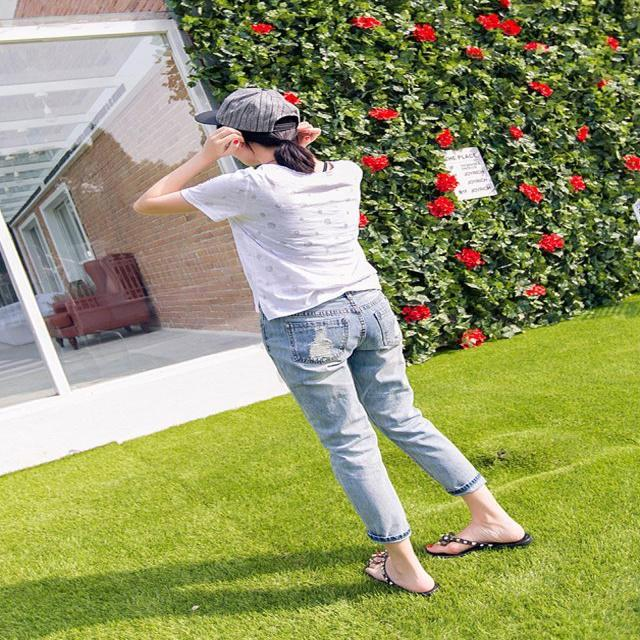short sleeve top: (182, 162, 381, 312)
trousers: (262, 279, 487, 542)
